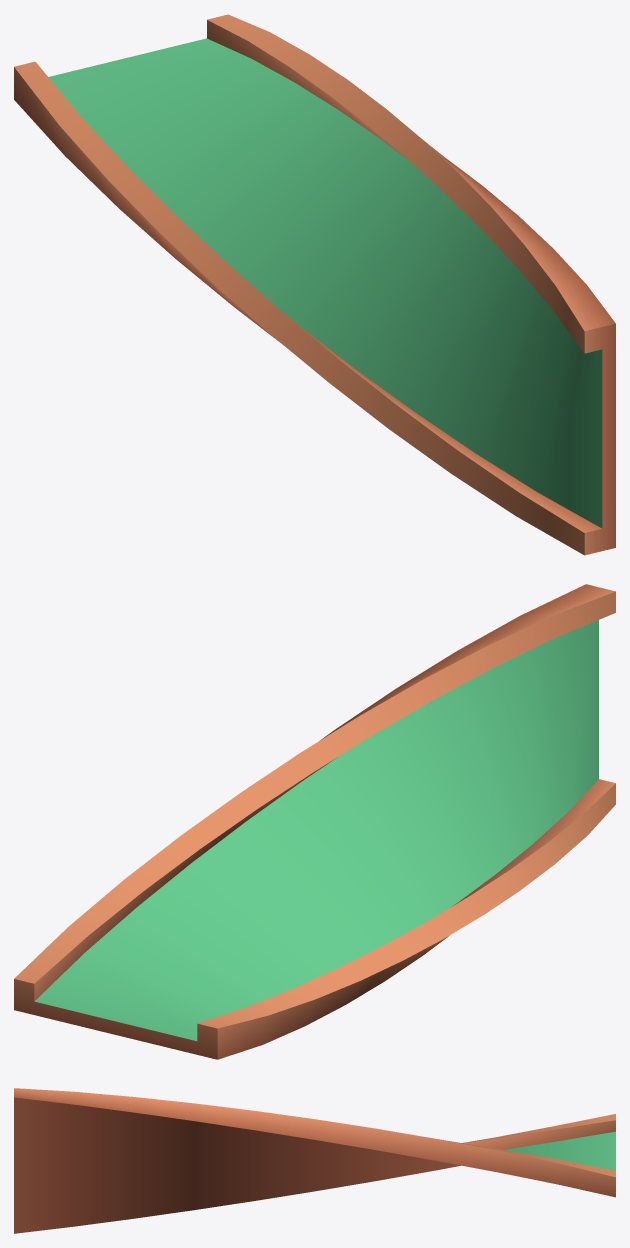
File: spline-default-straight-skew-right-side.glb
3 views of the same model, one above another, from view 1: azimuth 30°, elevation 25°; view 2: azimuth 150°, elevation 25°; view 3: azimuth 270°, elevation 25° (orthographic). The views are drawn at different scales.
Parts seen in each view (by area): view 1: spline-default-straight-skew-right-side; view 2: spline-default-straight-skew-right-side; view 3: spline-default-straight-skew-right-side.
Part boxes in pixels (<box>): spline-default-straight-skew-right-side: <box>14,14,615,555</box>; spline-default-straight-skew-right-side: <box>14,584,615,1059</box>; spline-default-straight-skew-right-side: <box>14,1088,615,1233</box>.
Bounding box in the file's own units: 1.02 × 1.02 × 4.
1 material, 1 textured.
